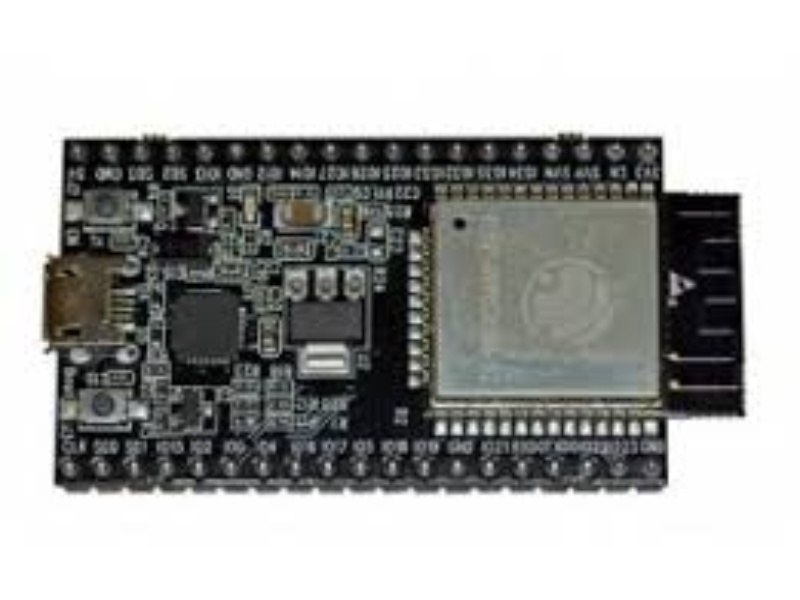esp32: (15, 114, 764, 502)
